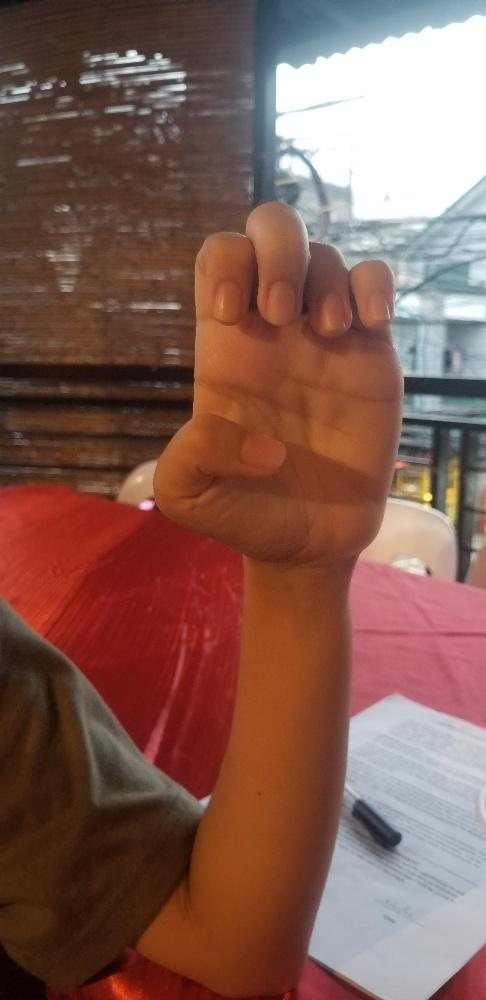e: (153, 200, 401, 561)
